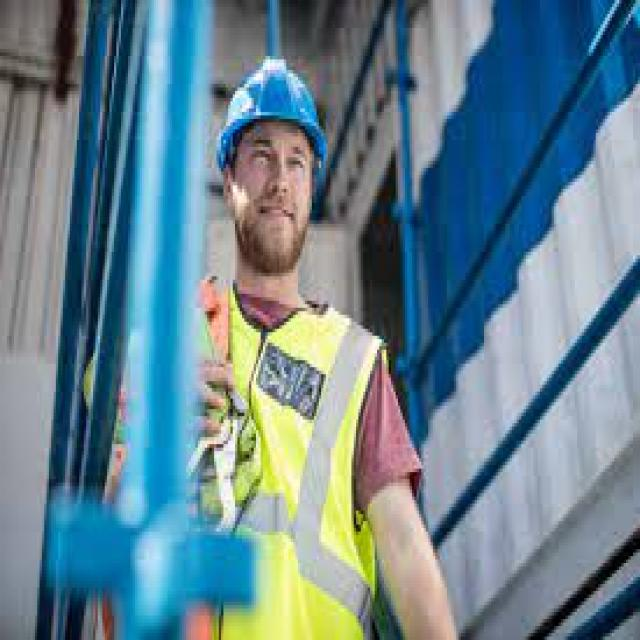Reflective-Jacket: (186, 276, 391, 636)
Safety-Helmet: (210, 56, 328, 175)
